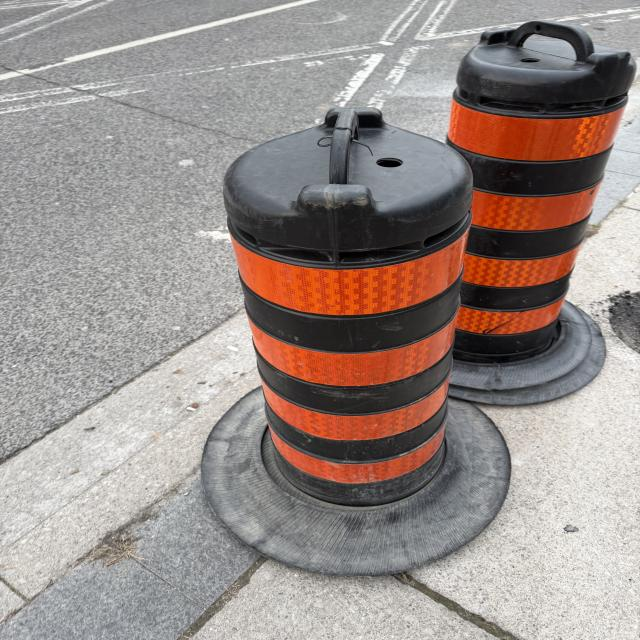Teraffic Barrel: (202, 108, 510, 575), (448, 21, 635, 404)
